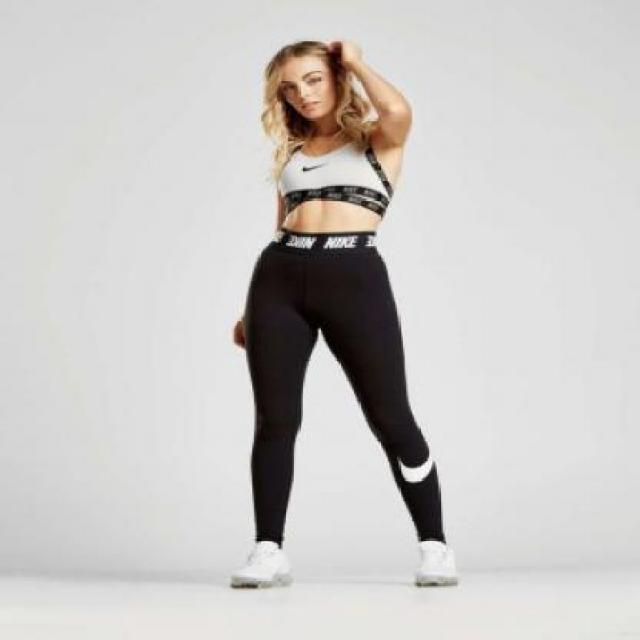Nike: (299, 159, 324, 170)
